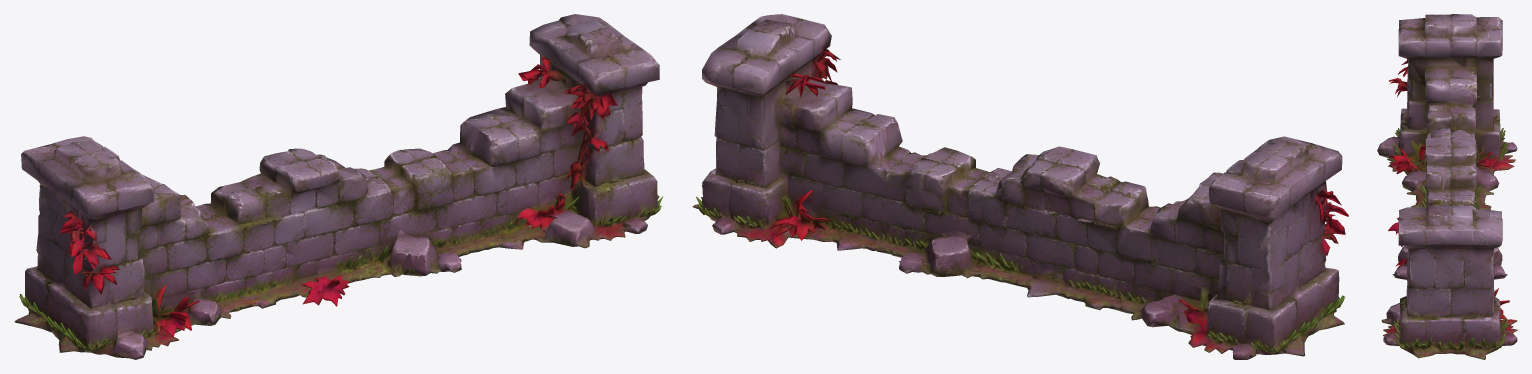
Rendered from gen_wall_fence.glb.
3 renders of one model, left to right at view 1: azimuth 30°, elevation 25°; view 2: azimuth 150°, elevation 25°; view 3: azimuth 270°, elevation 25°, orthographic. The views are drawn at different scales.
Visible parts, largest first — view 1: tripo_node_c8523265-49d2-46c9-986f-924e0126856d; view 2: tripo_node_c8523265-49d2-46c9-986f-924e0126856d; view 3: tripo_node_c8523265-49d2-46c9-986f-924e0126856d.
Boxes of the visible parts, left/top/right/bottom form: tripo_node_c8523265-49d2-46c9-986f-924e0126856d: left=14, top=14, right=663, bottom=359; tripo_node_c8523265-49d2-46c9-986f-924e0126856d: left=692, top=14, right=1348, bottom=359; tripo_node_c8523265-49d2-46c9-986f-924e0126856d: left=1377, top=14, right=1517, bottom=359.
Bounding box in the file's own units: 0.9808 × 0.2684 × 0.2565.
Materials: 1 (1 with a texture image).
